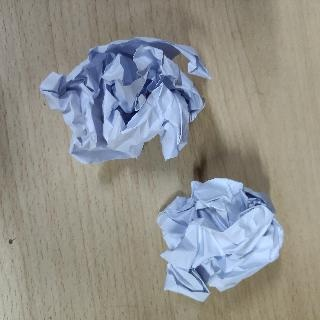8/可回收垃圾/纸: (40, 36, 211, 166), (155, 177, 284, 302)
